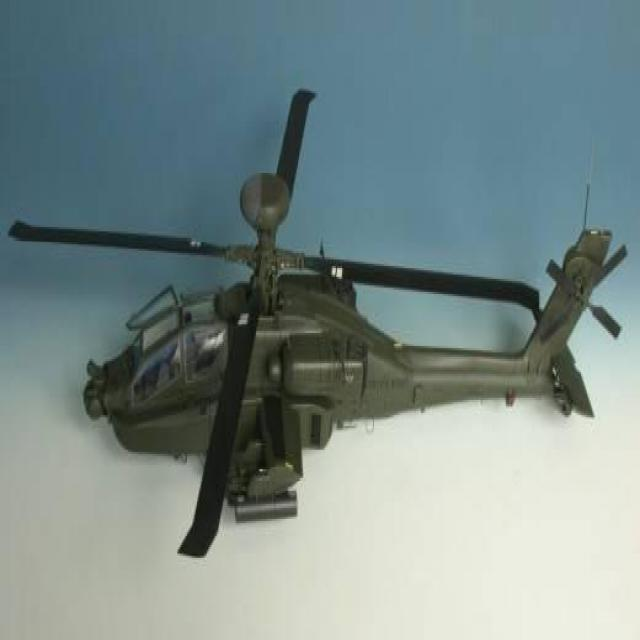MIL_HELO: (17, 73, 640, 580)
